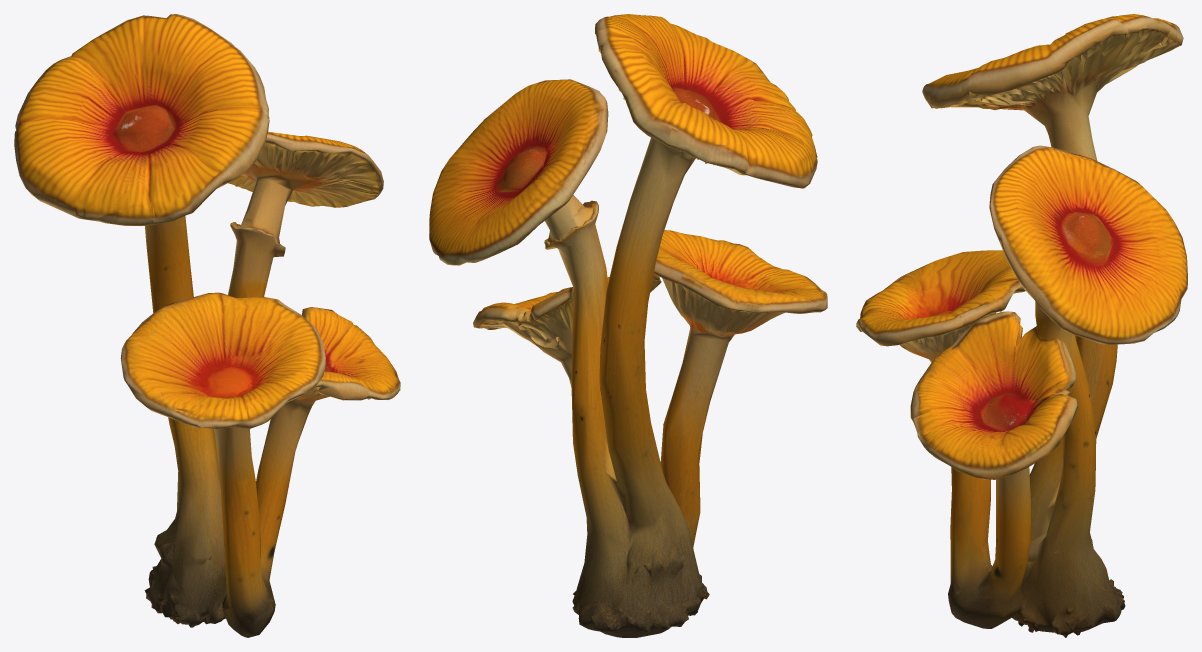
Rendered from mushroom_reizker.glb.
The picture shows the model from 3 angles, left to right: view 1: azimuth 30°, elevation 25°; view 2: azimuth 150°, elevation 25°; view 3: azimuth 270°, elevation 25°; orthographic projection. The views are drawn at different scales.
Visible parts, largest first — view 1: mushroom_reizker_0; view 2: mushroom_reizker_0; view 3: mushroom_reizker_0.
Boxes of the visible parts, bbox=[...] form: mushroom_reizker_0: bbox=[14, 14, 400, 637]; mushroom_reizker_0: bbox=[429, 14, 827, 637]; mushroom_reizker_0: bbox=[856, 14, 1187, 637].
Size of the model in its own units: 0.2202 by 0.35 by 0.1747.
1 material, 1 textured.
